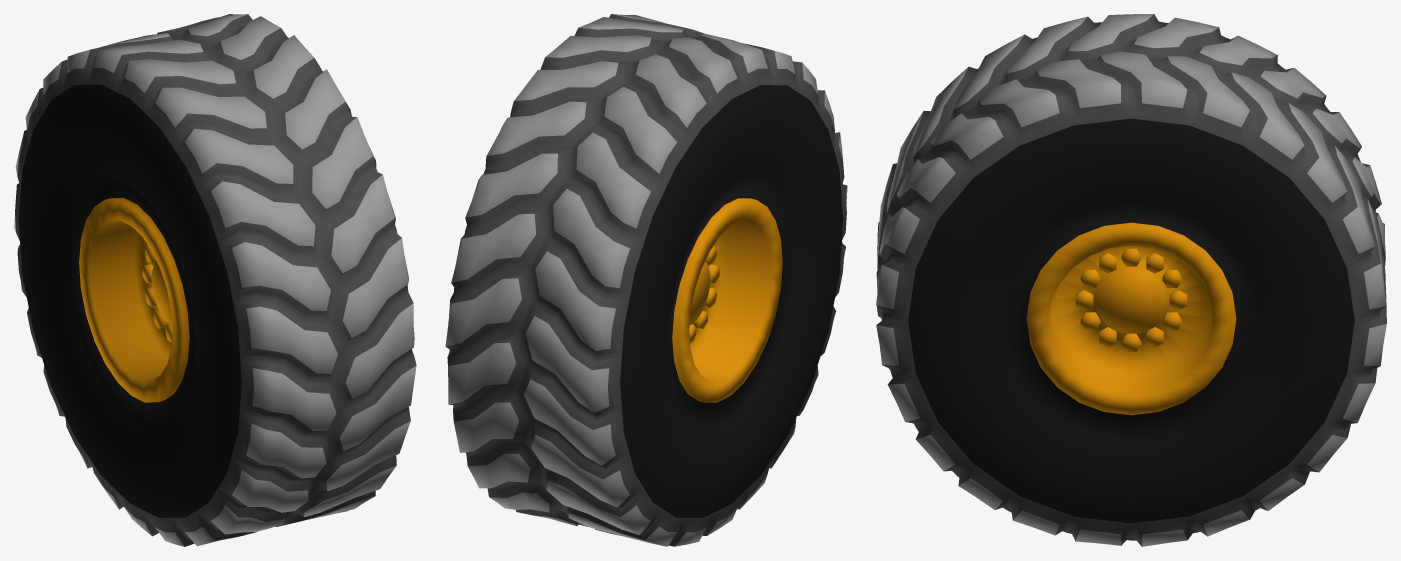
File: WheelLoader_Wheel_01.fbx
3 views of the same model, side by side, from view 1: azimuth 30°, elevation 25°; view 2: azimuth 150°, elevation 25°; view 3: azimuth 270°, elevation 25° (orthographic).
Parts seen in each view (by area): view 1: WheelLoader_Wheel_01_LOD_0_low; view 2: WheelLoader_Wheel_01_LOD_0_low; view 3: WheelLoader_Wheel_01_LOD_0_low.
Boxes of the visible parts, x1=… form: WheelLoader_Wheel_01_LOD_0_low: x1=14, y1=14, x2=416, y2=546; WheelLoader_Wheel_01_LOD_0_low: x1=445, y1=14, x2=847, y2=546; WheelLoader_Wheel_01_LOD_0_low: x1=876, y1=14, x2=1386, y2=546.
Size of the model in its own units: 0.6167 by 1.52 by 1.52.
